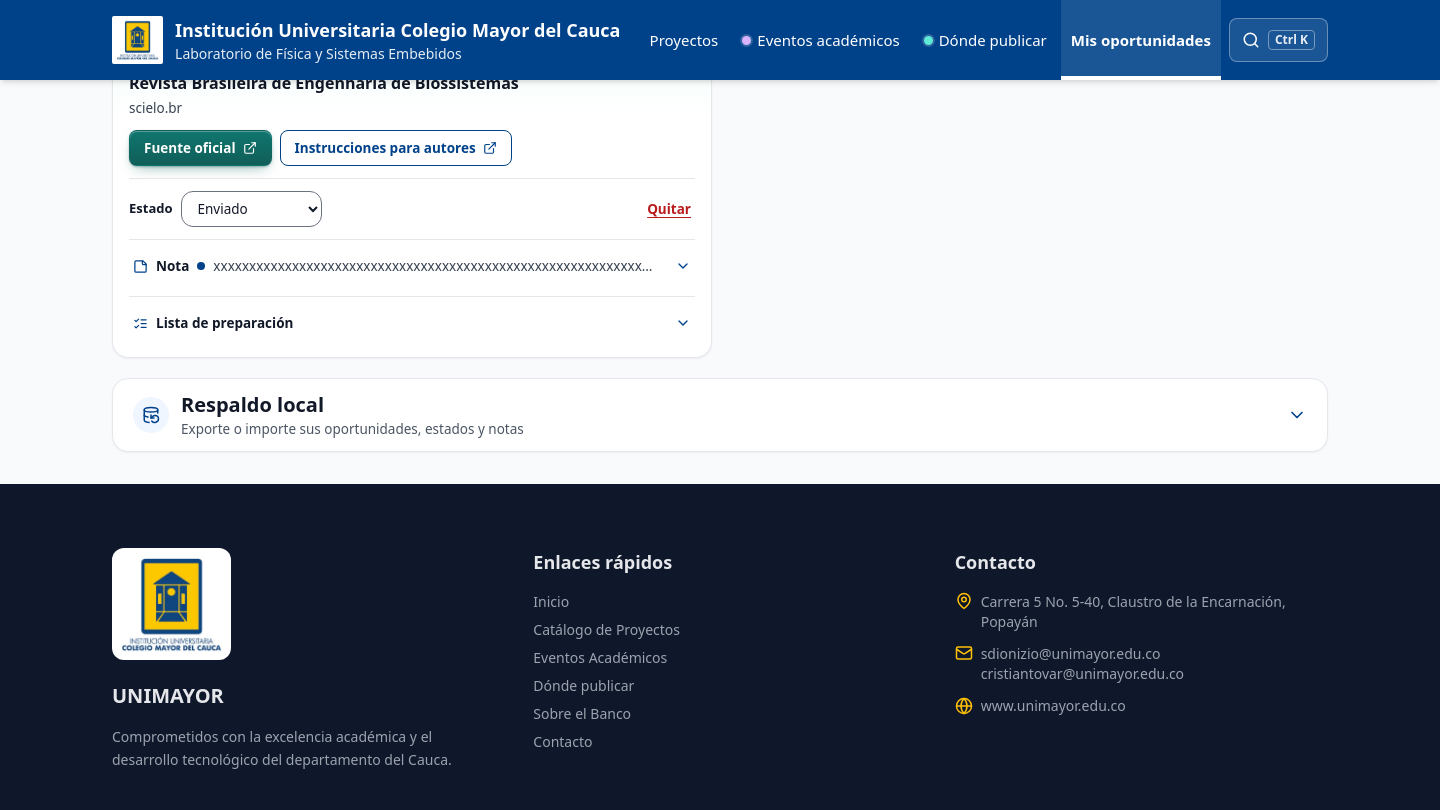
Test: backup panel › «Exportar respaldo» downloads mis-oportunidades.json with version 1 and the saved items, unchanged
(page scrolled)
Click the heading "Respaldo local" at (252, 404), box [181,391,324,418]
(page scrolled)
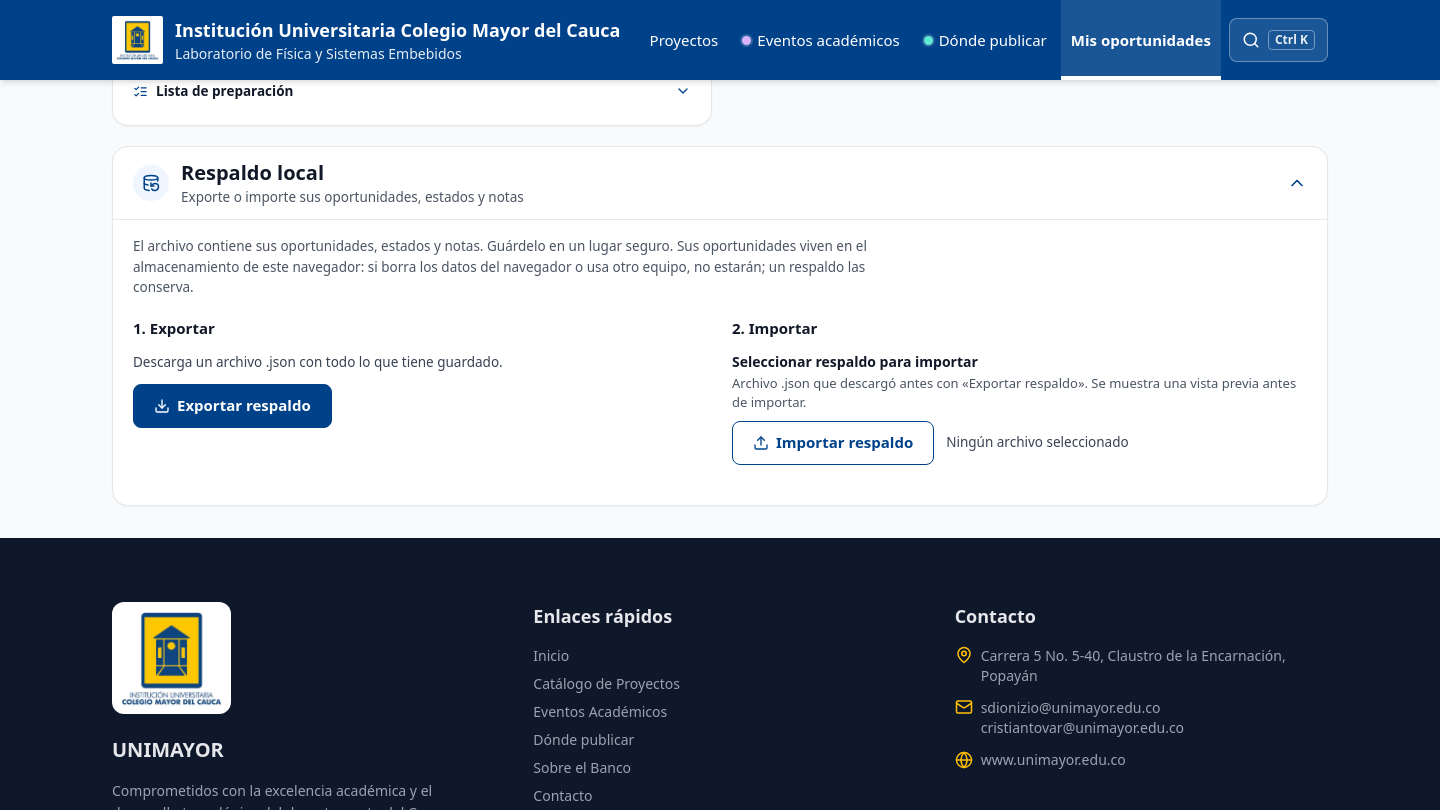
Click the button "Exportar respaldo" at (232, 406), box [133,384,332,428]
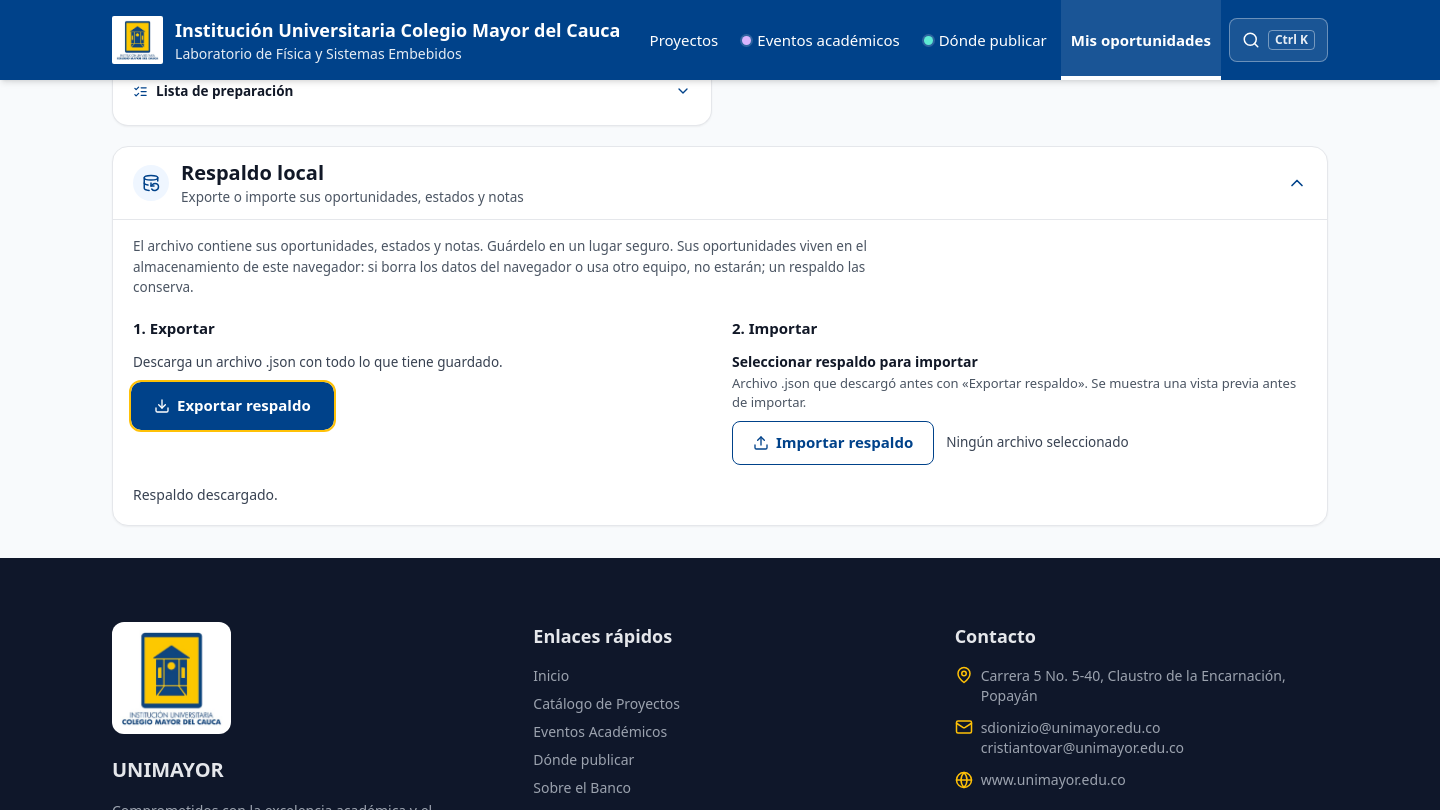
Now the text "Respaldo descargado." is shown, box [133,484,278,504]
